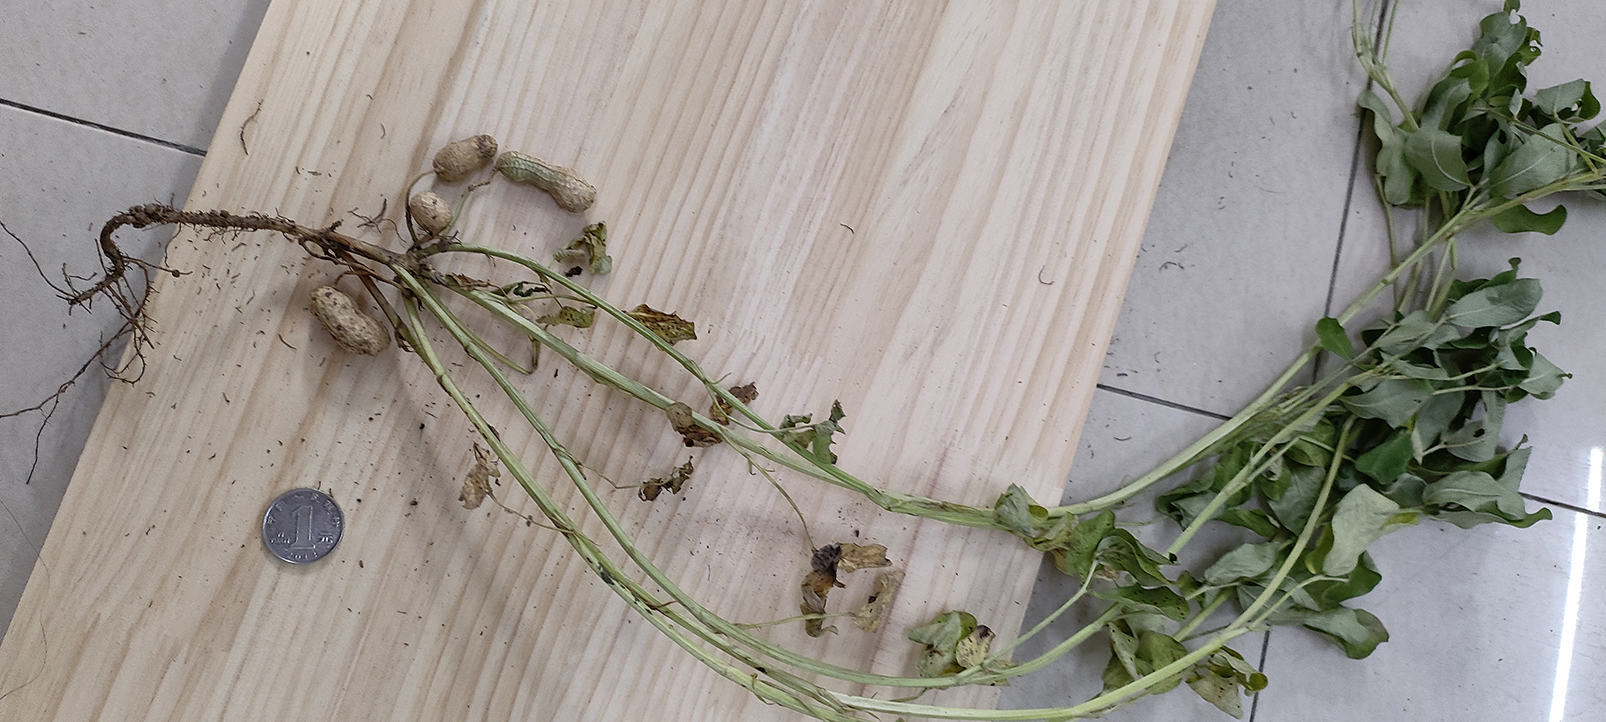h: (498, 148, 596, 212), (309, 286, 389, 354), (432, 134, 497, 180), (407, 192, 453, 231)
